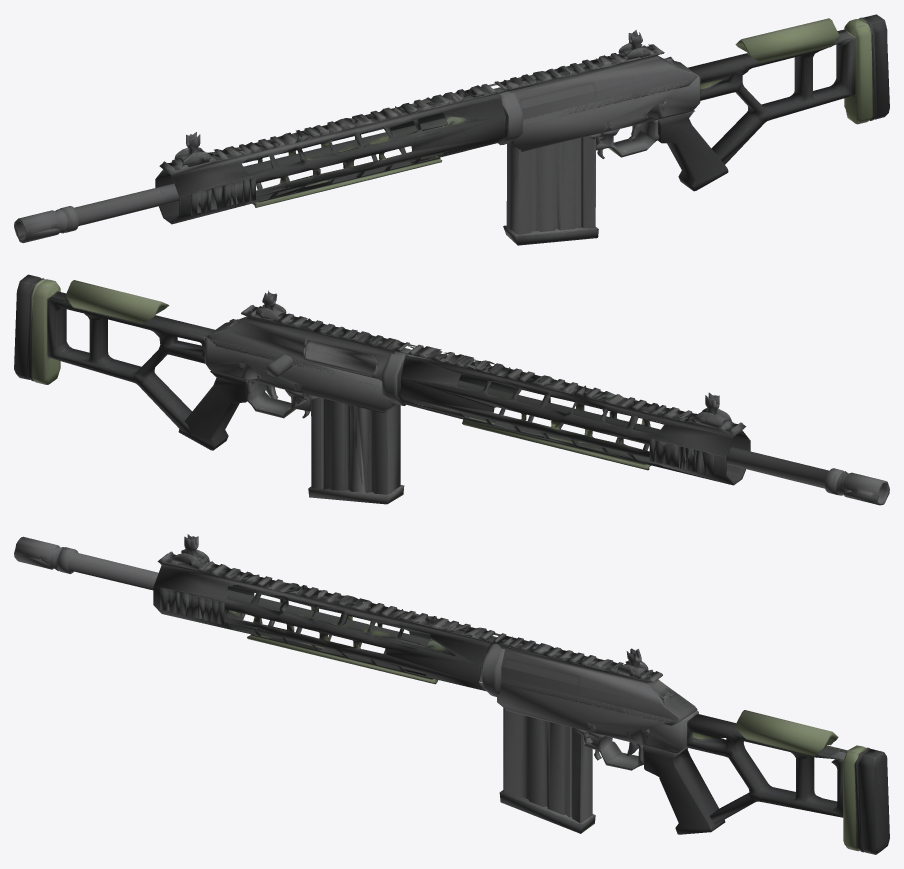
Rendered from sr_specter.glb.
The picture shows the model from 3 angles, top to bottom: view 1: azimuth 30°, elevation 25°; view 2: azimuth 150°, elevation 25°; view 3: azimuth 330°, elevation 25°; orthographic projection.
Size of the model in its own units: 0.957 by 0.2061 by 0.0708.
Materials: 1 (1 with a texture image).
